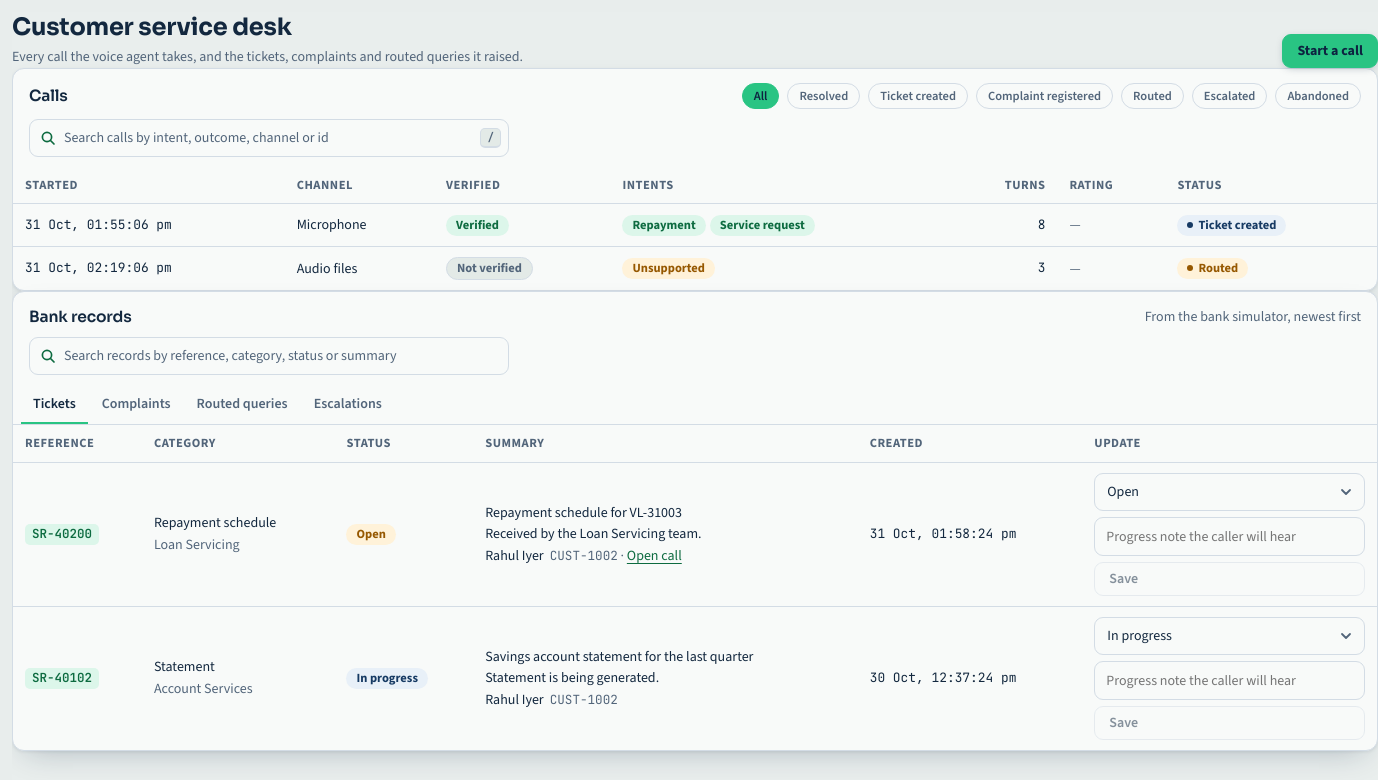
Test: SupportDesk › searches the tickets tab by reference, highlights the hit and counts every tab
The width and height of the screenshot is (1378, 780).
Check: the text "SR-40102" is shown, box [25,668,99,689]
Type "SR-40200" into the search field named "Search bank records" at (269, 356), box [29,337,509,375]
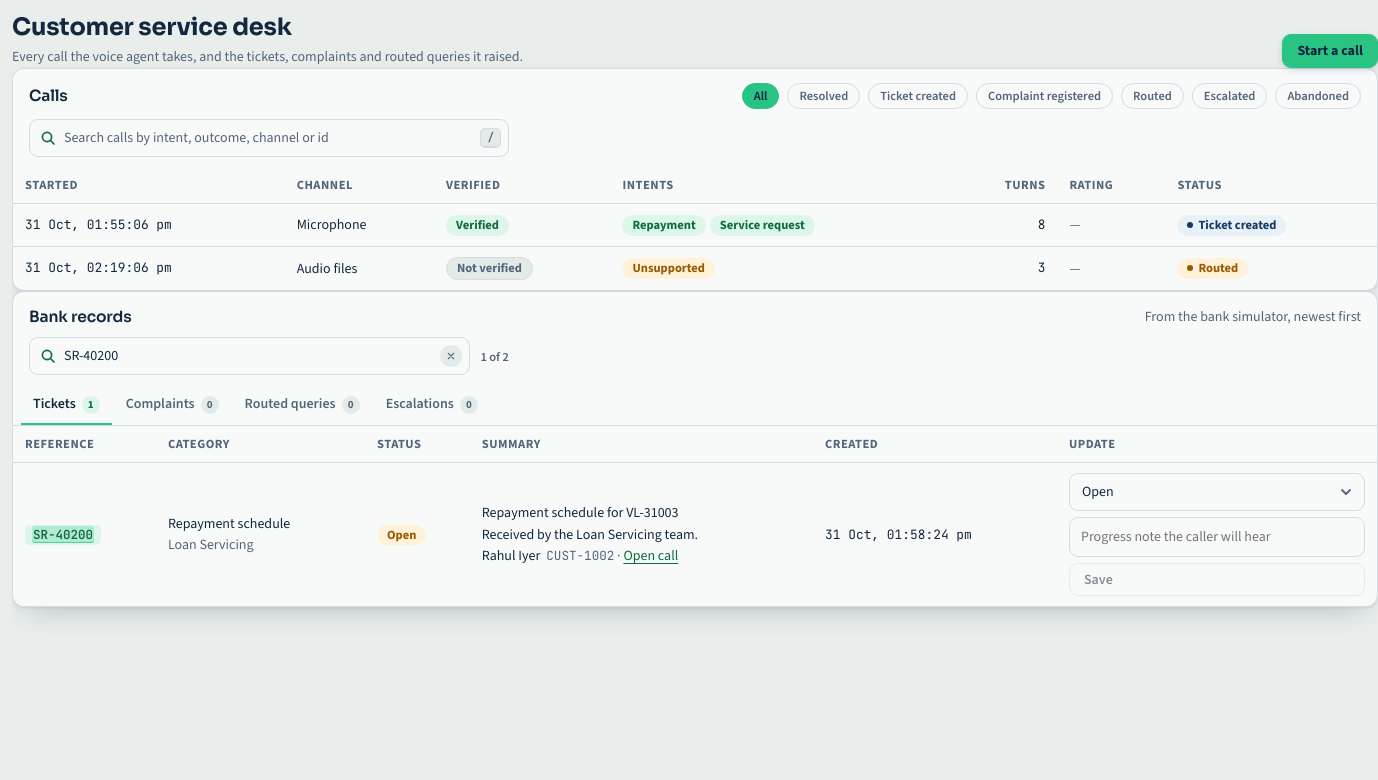
Check: the text "SR-40102" is gone
Check: the text "1 of 2" is shown, box [480,348,509,365]
Check: the tab "Complaints 0" is shown, box [114,385,231,425]
Replace the text in the search field named "Search bank records" with "xyz" at (250, 356), box [29,337,470,375]
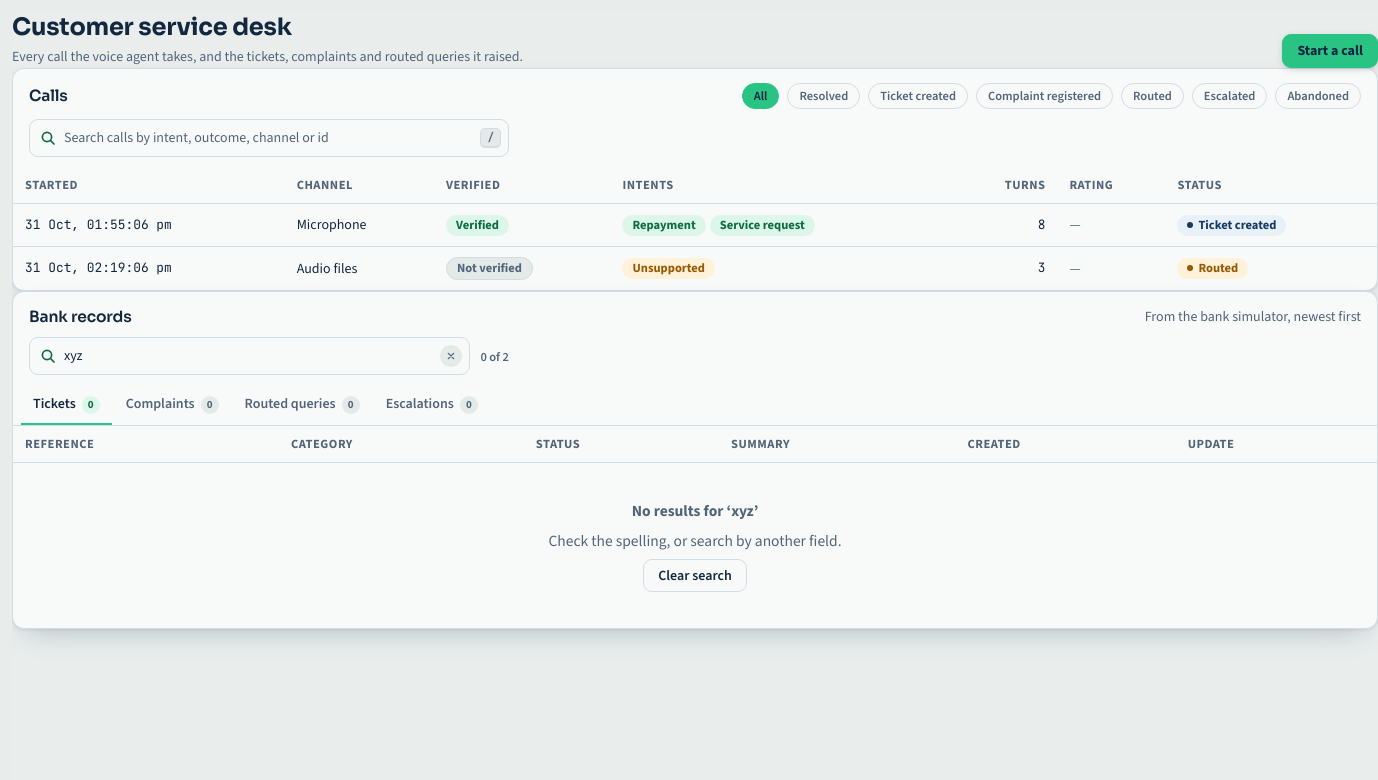
Check: the text "No results for ‘xyz’" is shown, box [632,499,758,523]
Click the button "Clear search" at (695, 576), box [643,559,747,592]
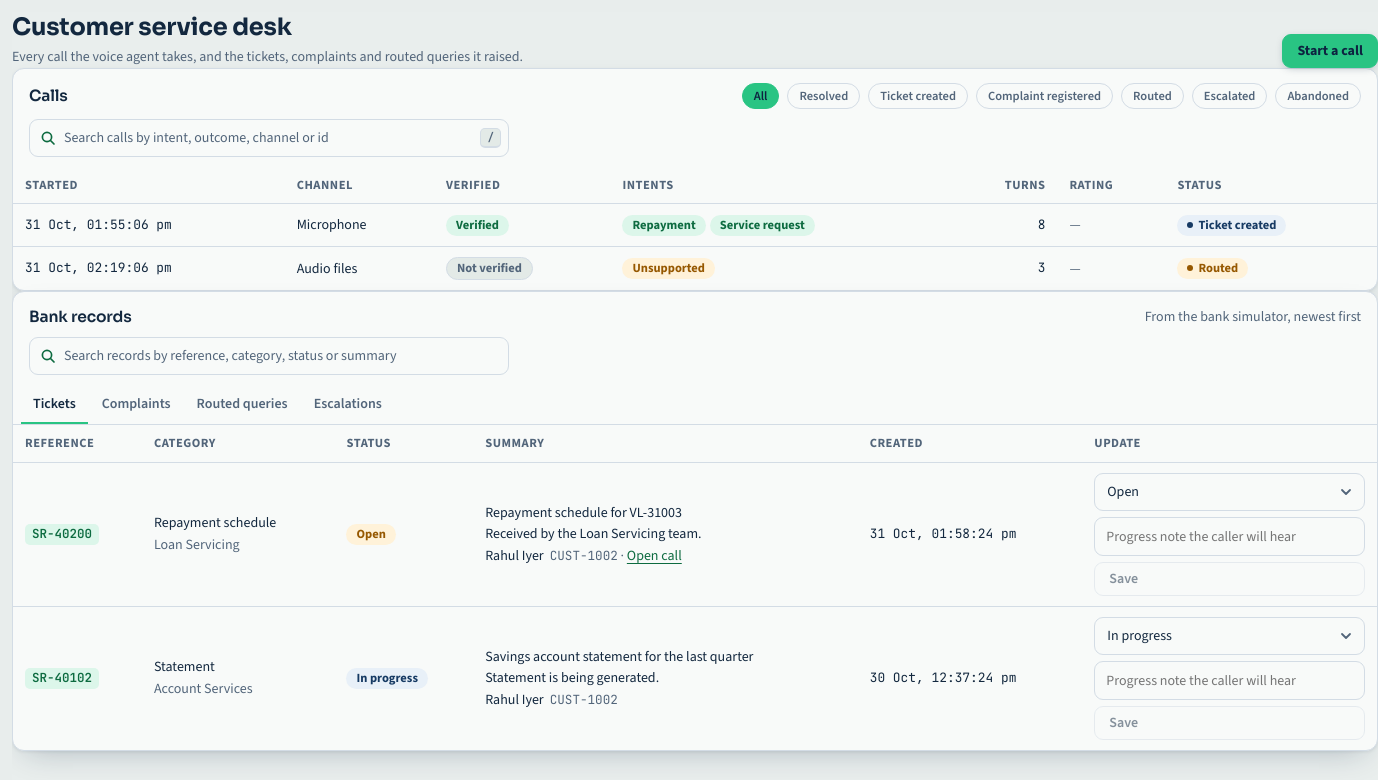
Check: the text "SR-40102" is shown, box [25,668,99,689]
